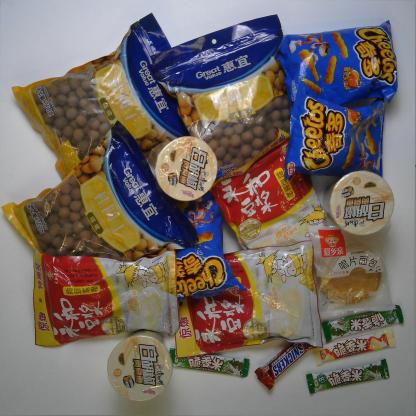Chocolate: (310, 326, 396, 366), (322, 305, 405, 343), (304, 358, 390, 394), (255, 340, 317, 388), (168, 345, 252, 380)
Dessert: (308, 220, 394, 318)
Dried Food: (11, 12, 199, 180), (1, 121, 200, 264), (150, 14, 298, 191)
Instant Drink: (172, 240, 327, 358), (207, 128, 335, 258), (31, 244, 183, 348)
Instant Noodles: (108, 326, 173, 402), (324, 169, 394, 236), (155, 136, 217, 202)
Puffed Food: (278, 19, 402, 107), (165, 171, 247, 301), (283, 95, 386, 182)
